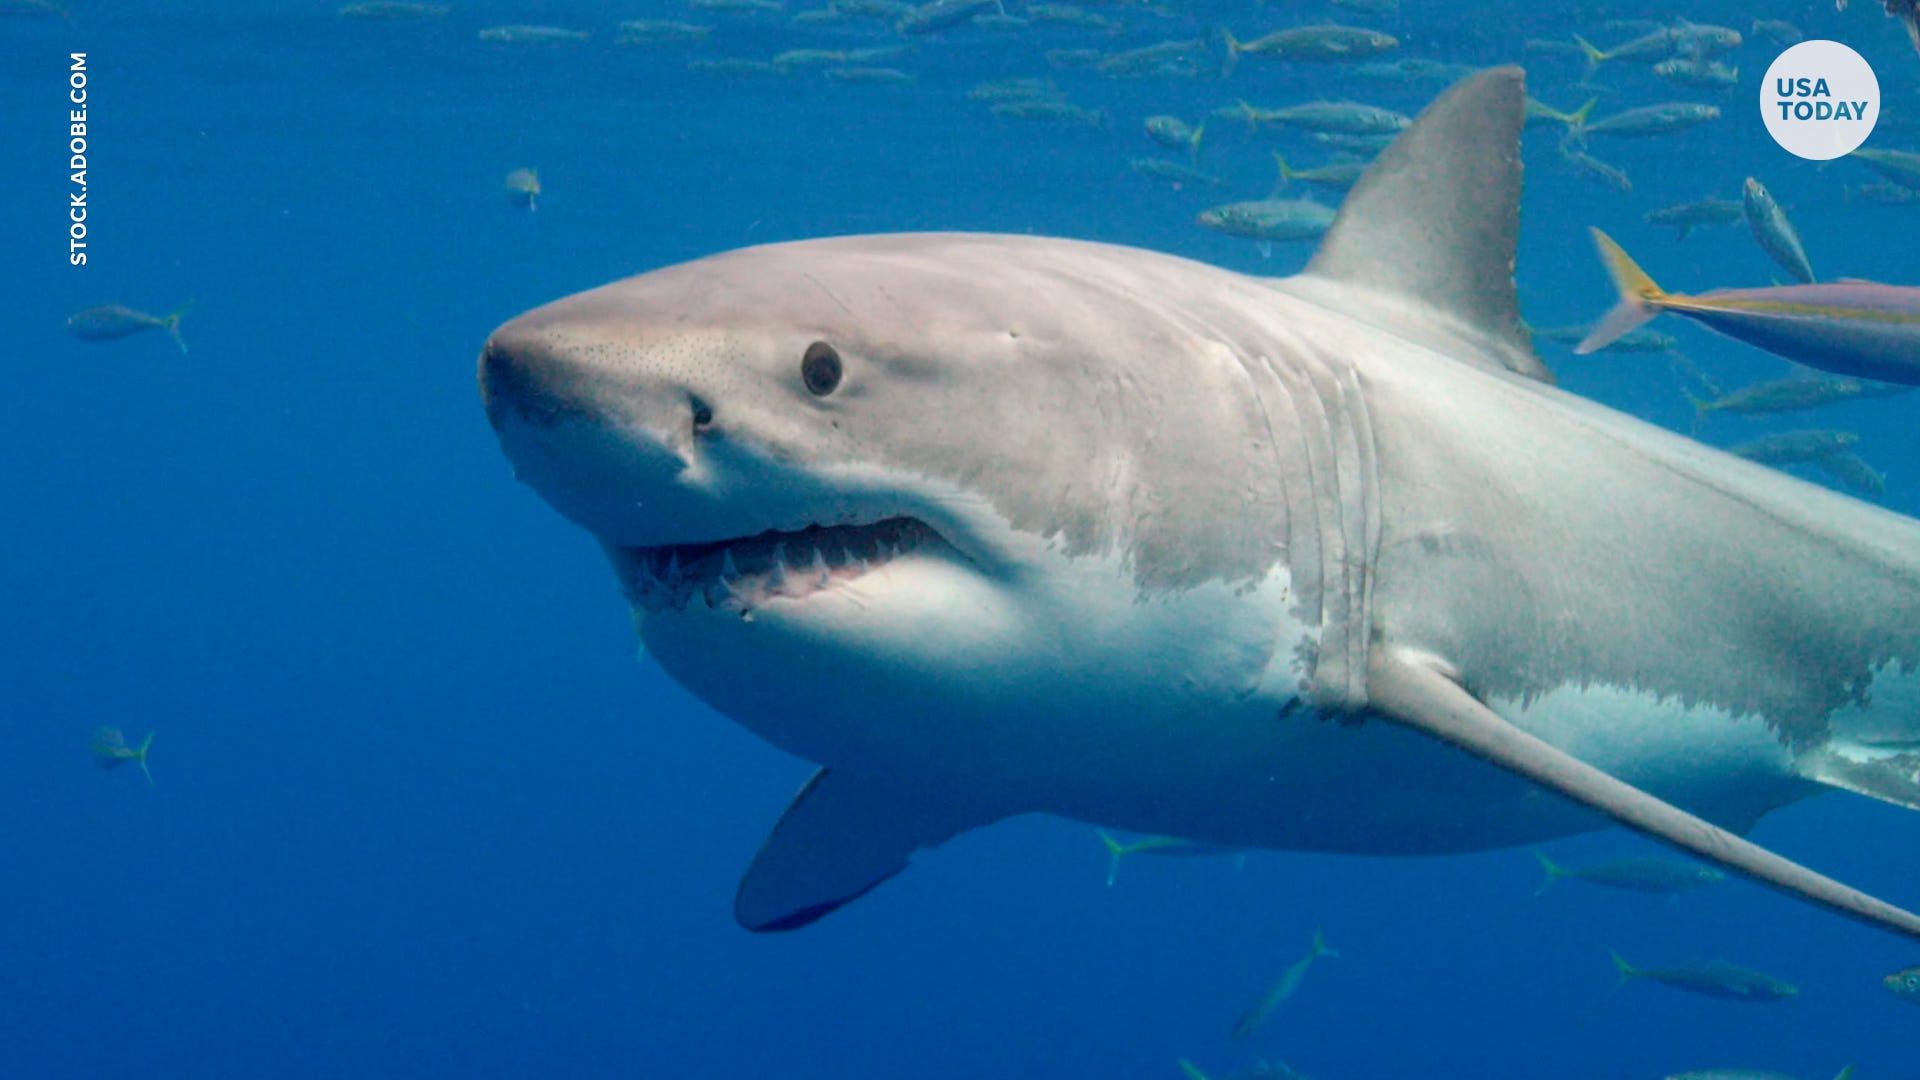Shark: (489, 58, 1919, 943)
